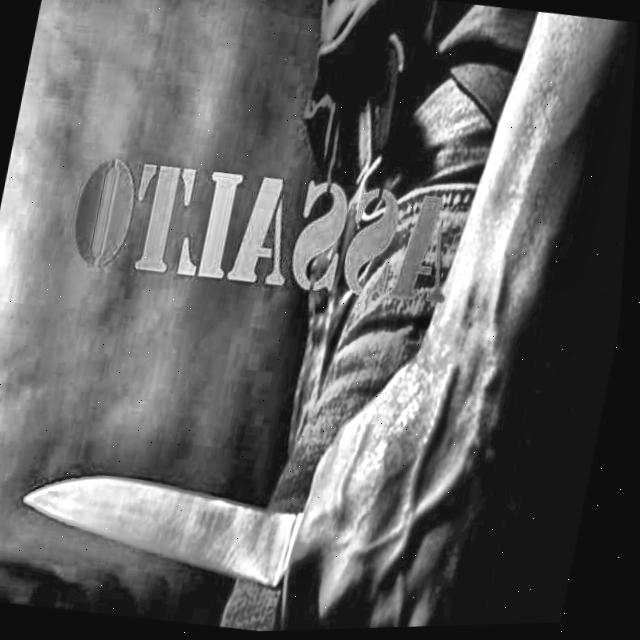pisau: (0, 433, 556, 640)
